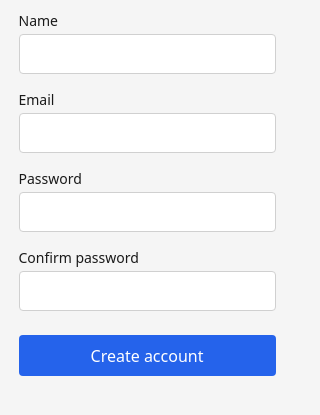
it: RegisterForm › shows a mismatch error when confirmPassword differs from password
The image size is (320, 415).
Step 1. Type "Ada Lovelace" into the field labelled "Name" → (147, 54), box 18,34 -> 276,74
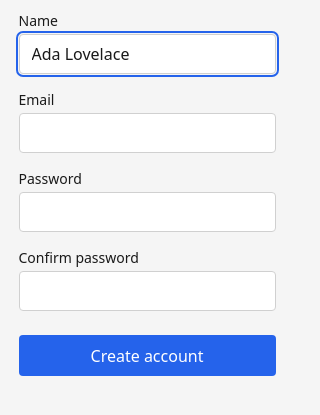
Step 2. Type "ada@example.com" into the field labelled "Email" → (147, 133), box 18,113 -> 276,153
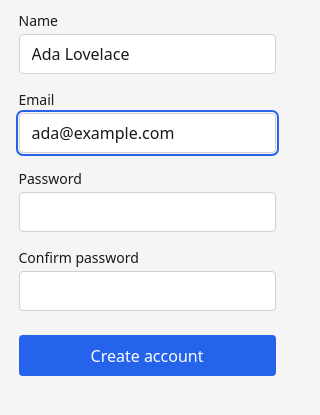
Step 3. Type "super-secret" into the password field labelled "Password" → (147, 212), box 18,192 -> 276,232
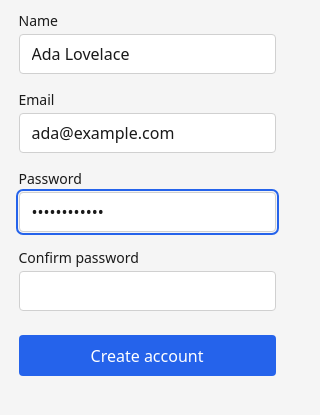
Step 4. Type "different-pw" into the password field labelled "Confirm password" → (147, 291), box 18,271 -> 276,311
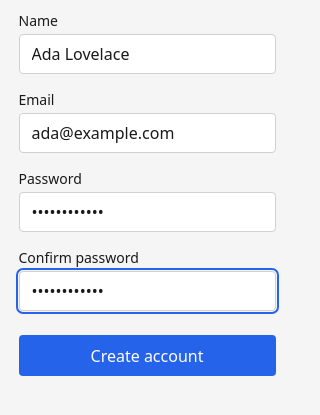
Step 5. Click the button "Create account" → (147, 356), box 18,335 -> 276,376
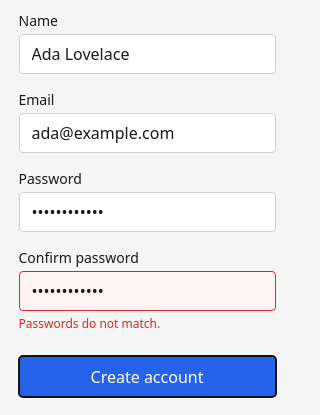
Expected: the text "Passwords do not match." is shown, 18,315 -> 160,332
